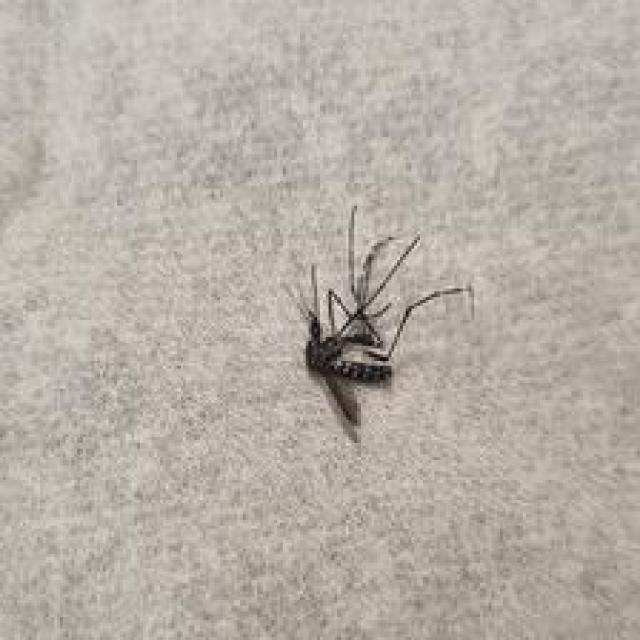Aedes albopictus: (292, 204, 474, 442)
